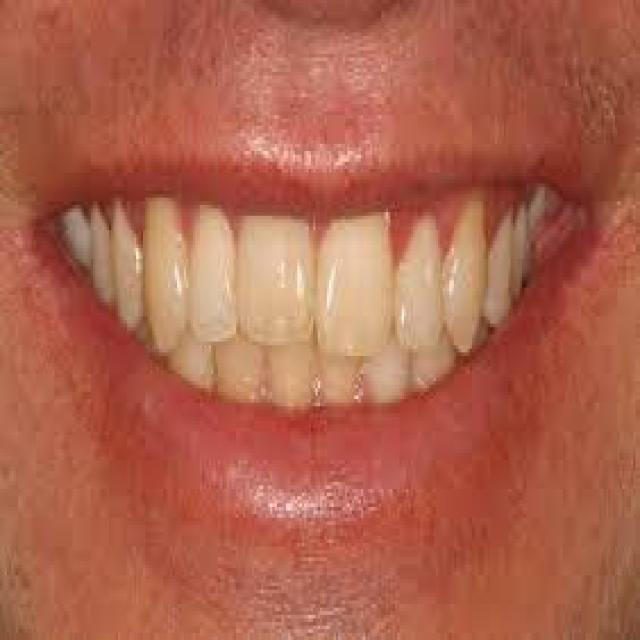tooth: (232, 205, 316, 349), (318, 212, 397, 363), (138, 187, 188, 356), (184, 198, 238, 349), (440, 198, 488, 360), (395, 212, 442, 360), (211, 324, 266, 396), (109, 205, 143, 320), (416, 316, 458, 403), (366, 334, 416, 406), (311, 342, 365, 406), (170, 324, 216, 392), (268, 338, 313, 406)
